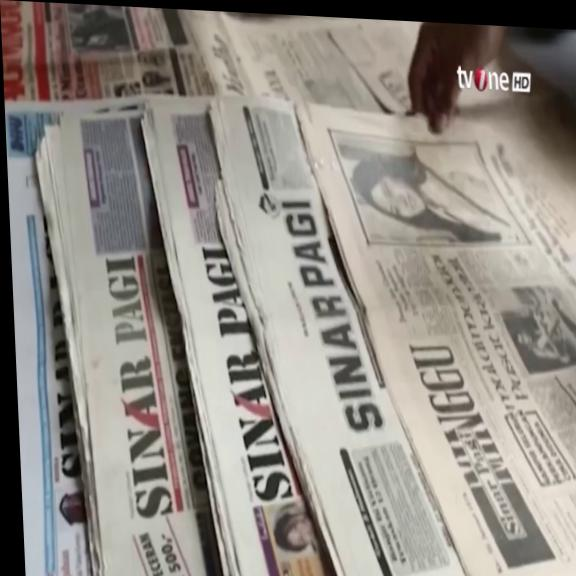Kertas: (339, 186, 576, 576), (317, 82, 576, 289), (5, 108, 95, 572), (187, 10, 511, 127)
